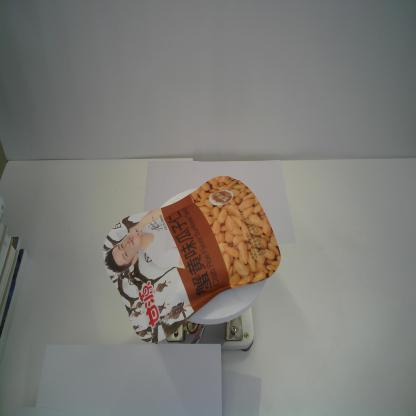Dried Fruit: (102, 175, 282, 344)
